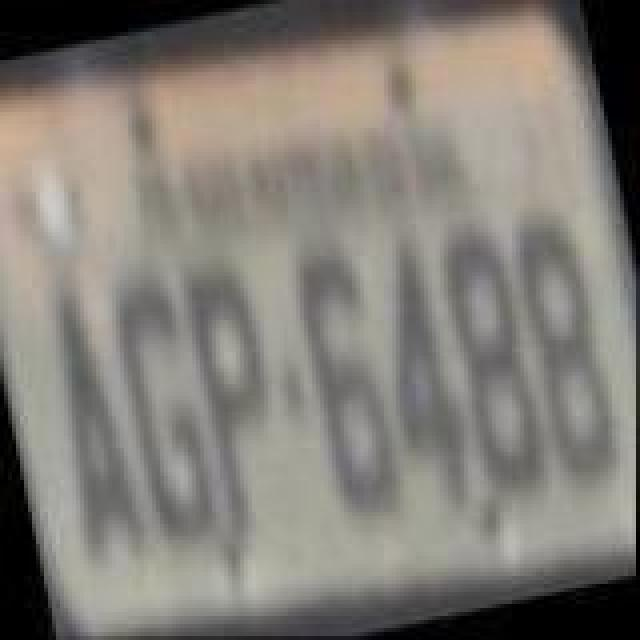4: (360, 240, 484, 524)
6: (288, 238, 412, 526)
8: (432, 222, 556, 510)
A: (34, 284, 154, 580)
G: (100, 270, 232, 562)
P: (174, 256, 302, 548)
